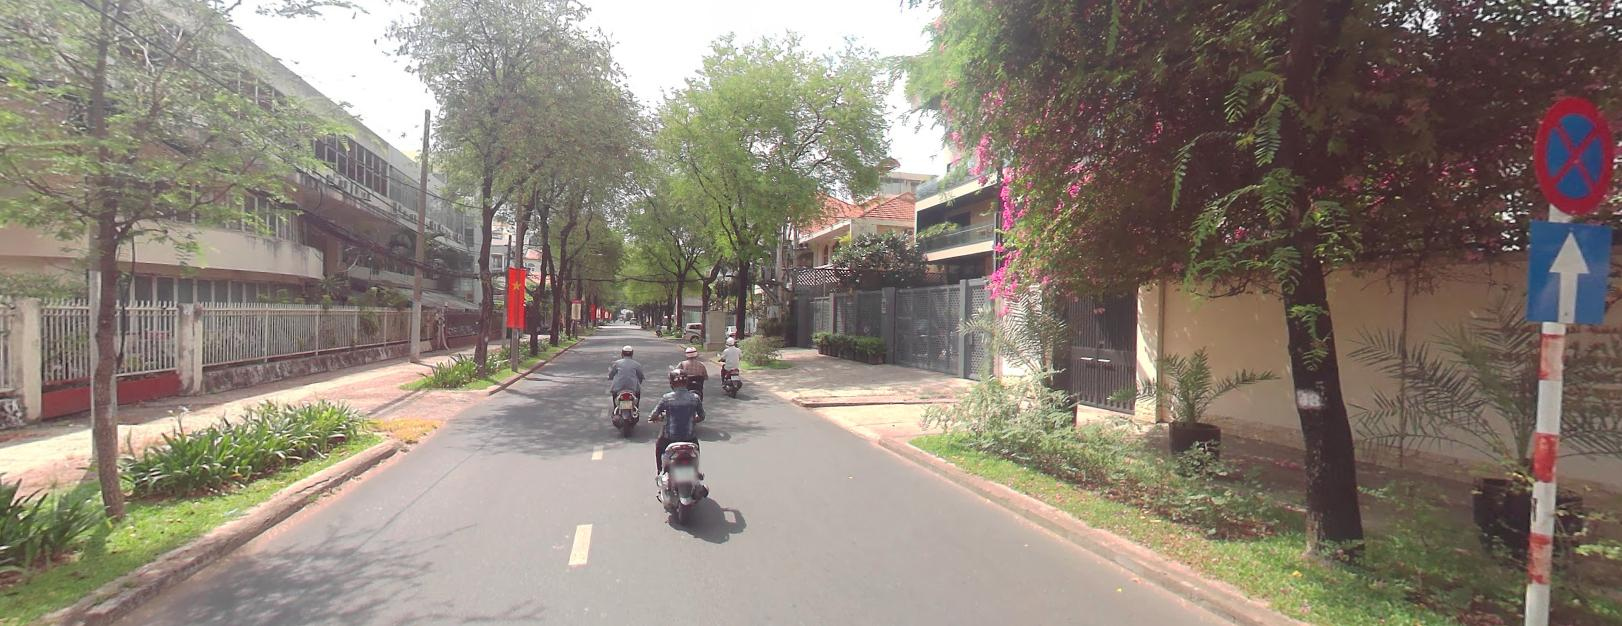Cam dung va do: (1534, 94, 1611, 217)
